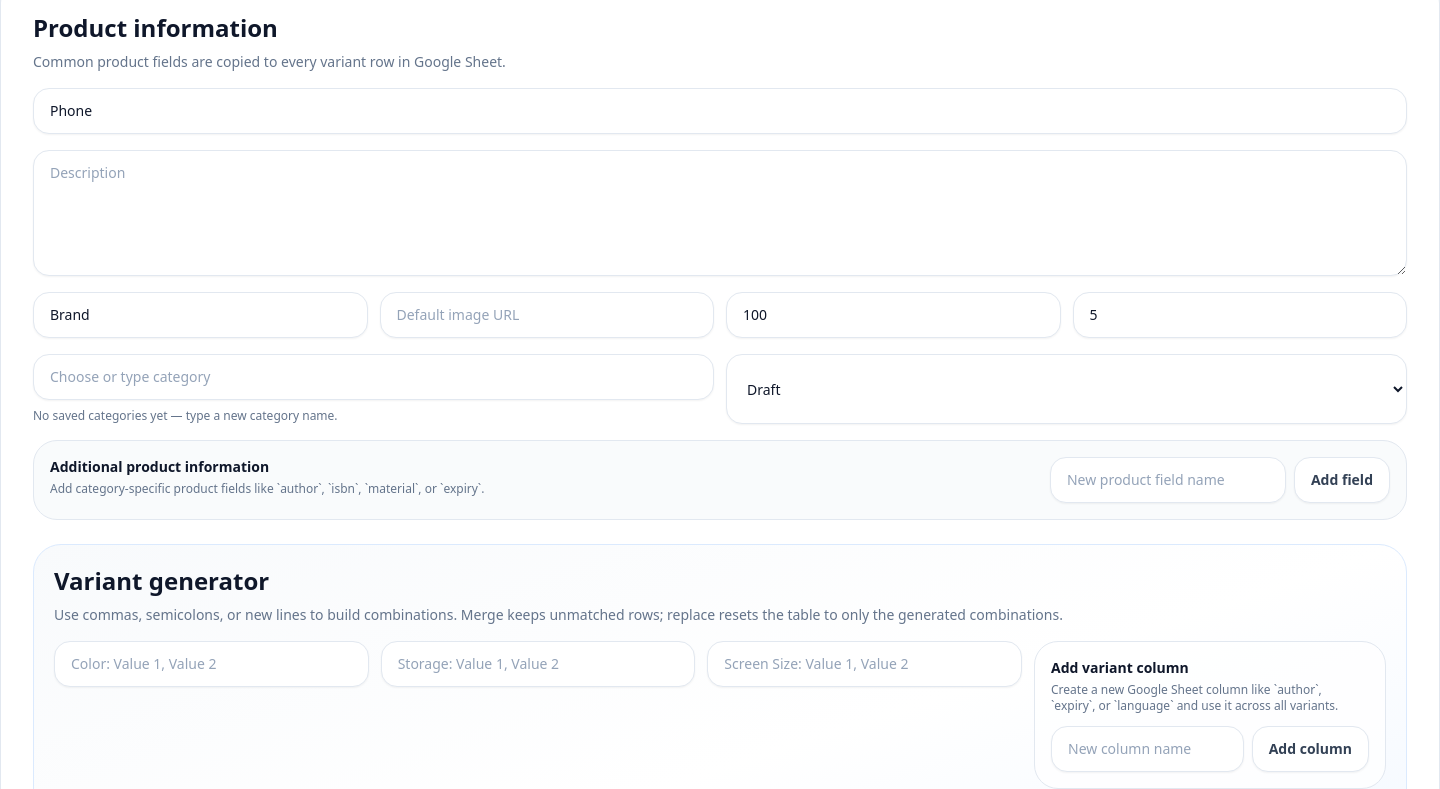
Test: ProductForm category field › supports adding a custom variant column for multi-variant products
This screenshot has width=1440, height=789.
Type "Author" into the field with placeholder "New column name". click: (1147, 749)
box: [1051, 726, 1244, 772]
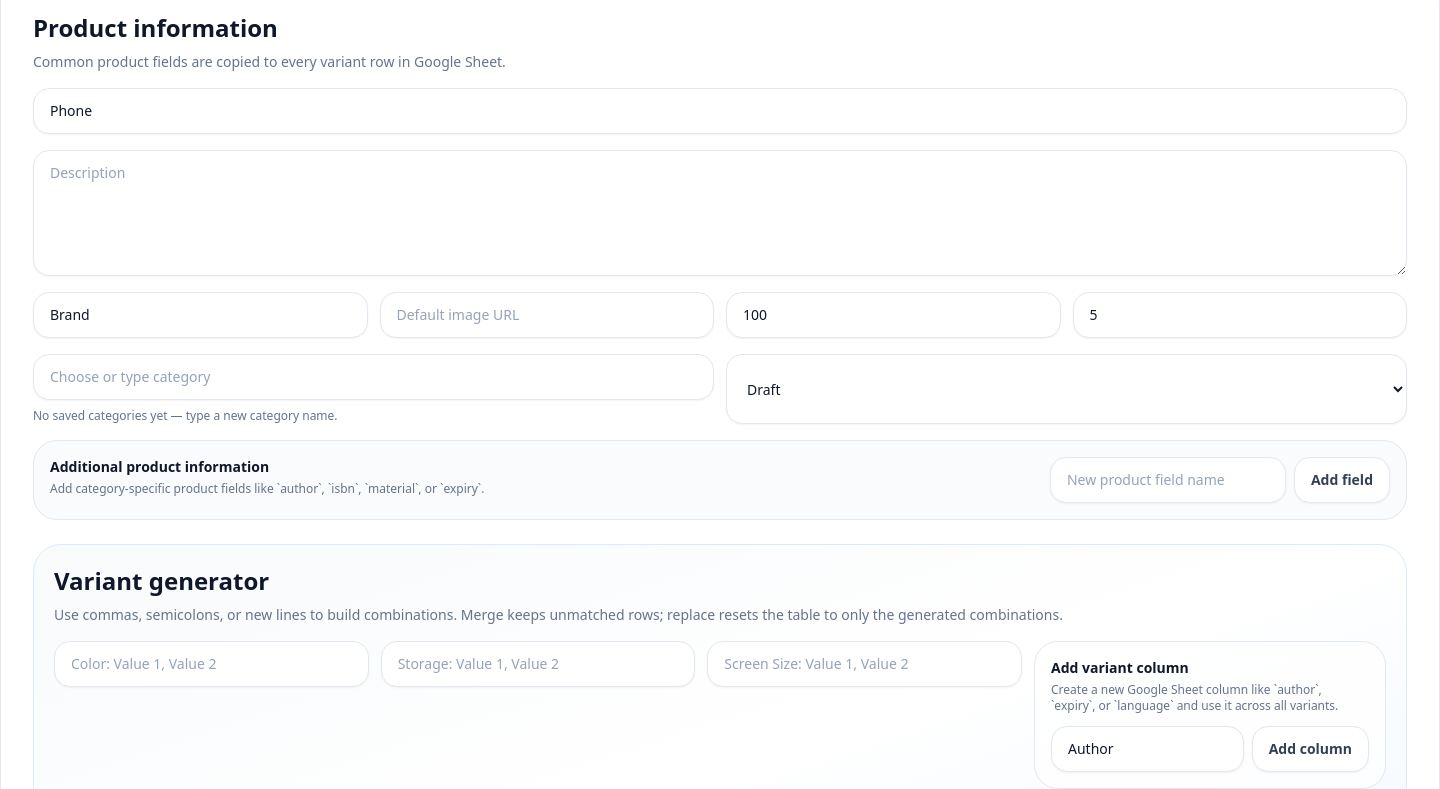
Click the button "Add column". click: click(1310, 749)
box: [1252, 726, 1369, 772]
(page scrolled)
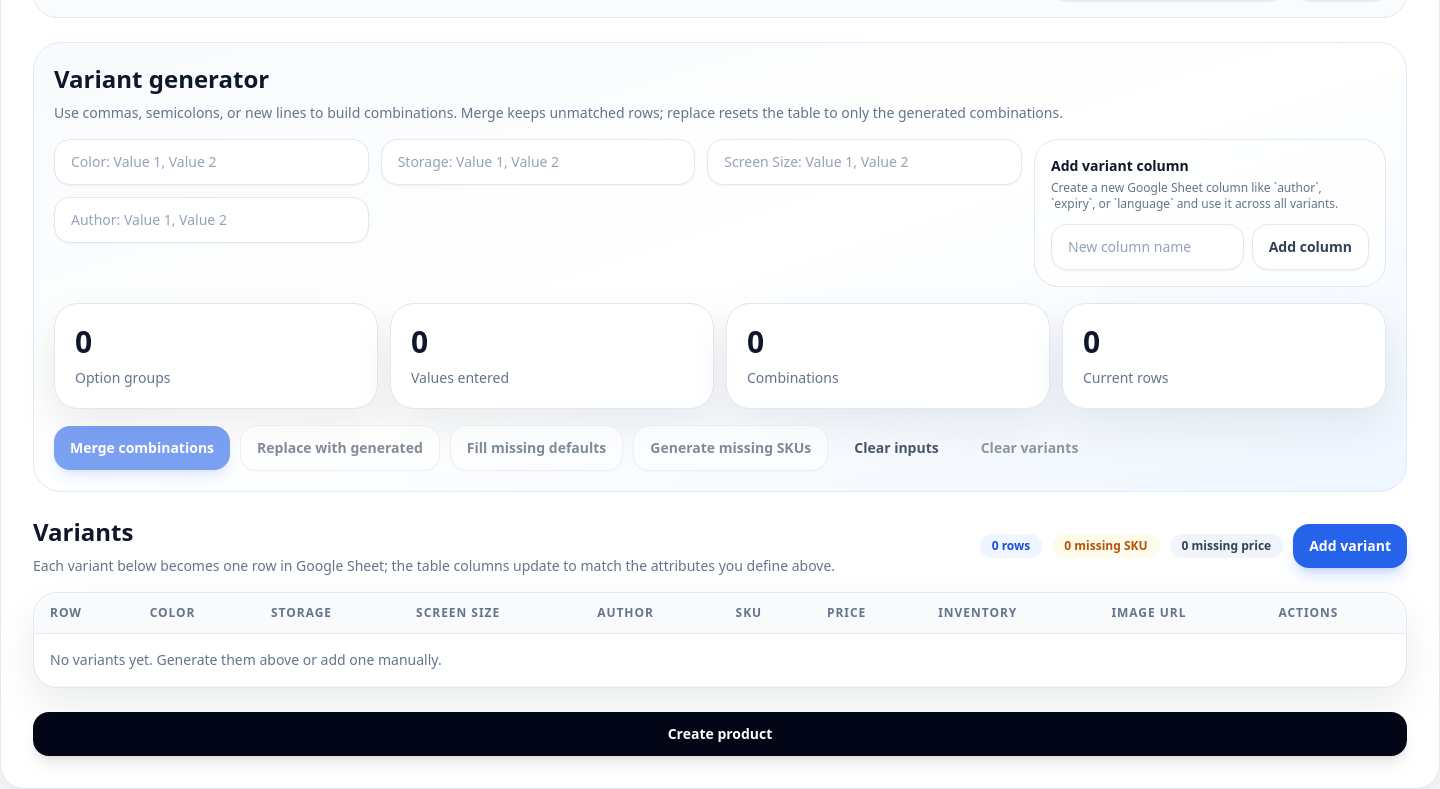
Now the field with placeholder "Author: Value 1, Value 2" is shown, box [54, 197, 369, 243]
Now the column heading "Author" is shown, box [581, 593, 720, 634]
